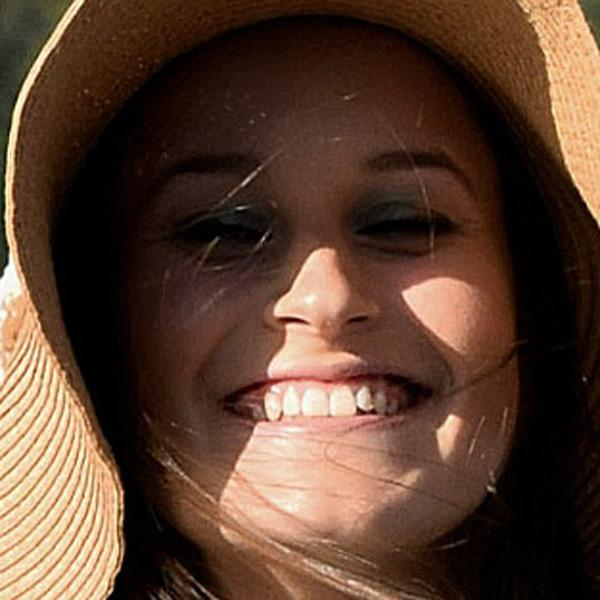Eyes: (346, 189, 466, 259), (163, 201, 279, 264)
